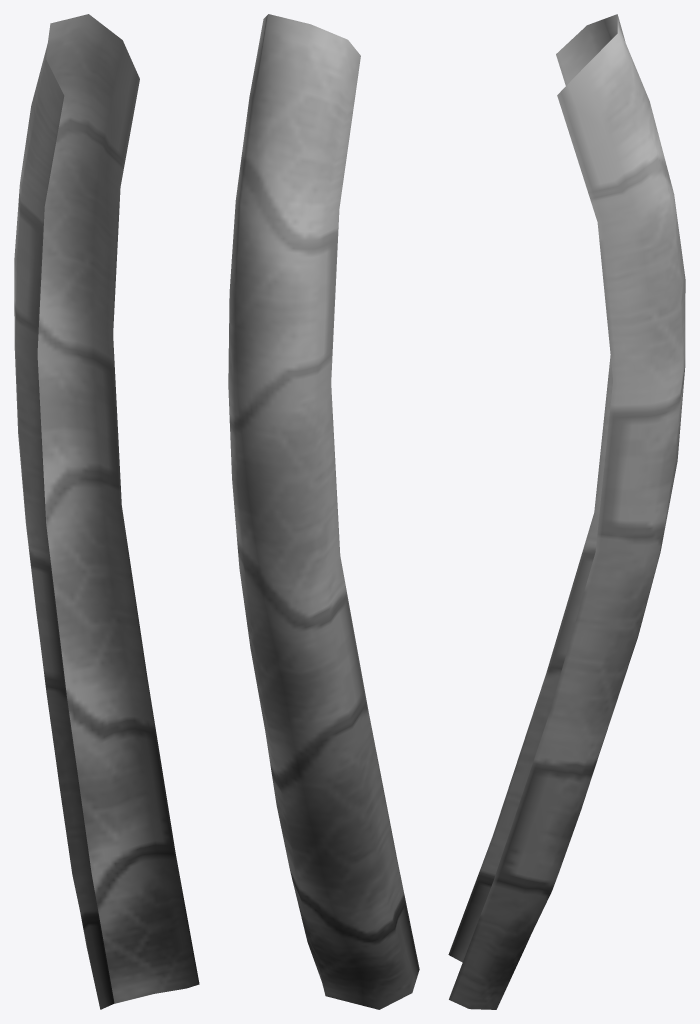
The model's file is health_bar.obj.
3 views of the same model, side by side, from view 1: azimuth 30°, elevation 25°; view 2: azimuth 150°, elevation 25°; view 3: azimuth 270°, elevation 25° (orthographic). The views are drawn at different scales.
Parts seen in each view (by area): view 1: isaac_clarke_isaac_healthbar; view 2: isaac_clarke_isaac_healthbar; view 3: isaac_clarke_isaac_healthbar.
Boxes of the visible parts, x1,y1,x2,y2 form: isaac_clarke_isaac_healthbar: (14, 14, 199, 1009); isaac_clarke_isaac_healthbar: (228, 14, 419, 1009); isaac_clarke_isaac_healthbar: (448, 14, 685, 1009).
Size of the model in its own units: 1.04 by 10.34 by 2.28.
1 material, 1 textured.
